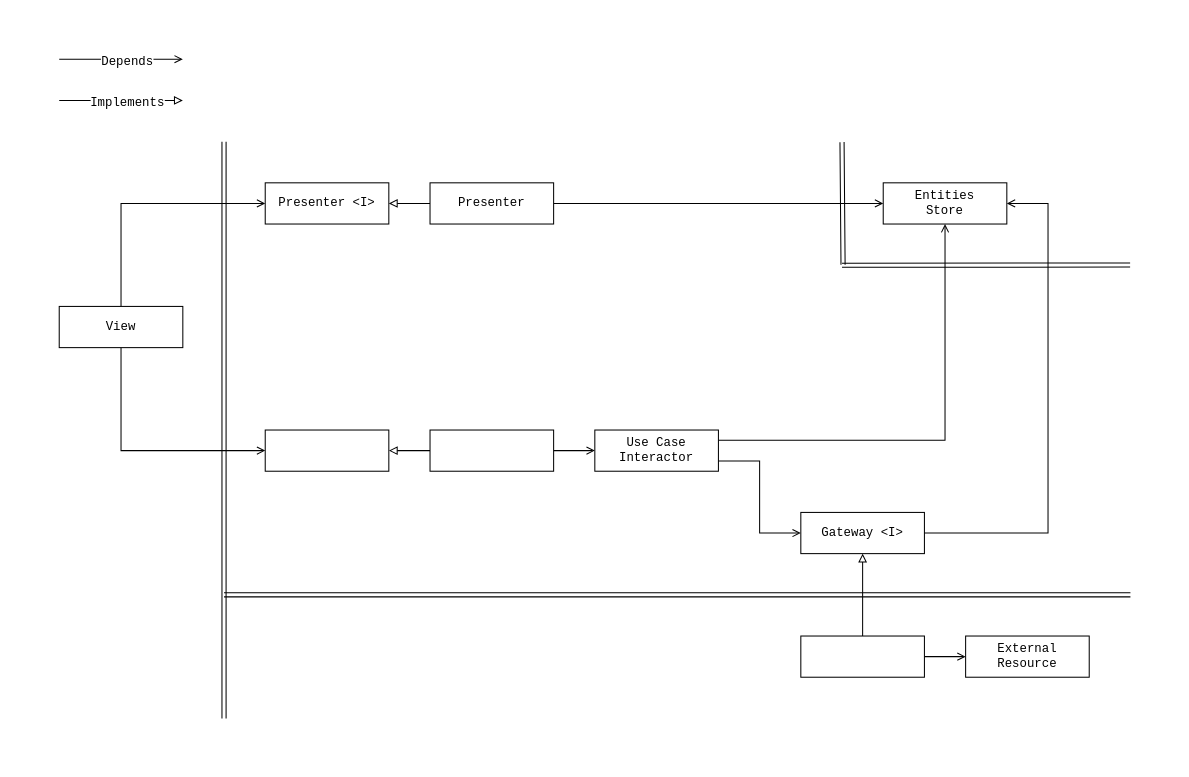
Image size: 1189x777. Some labels were removed from this diagram. Here are the shapes that lost their labels. From the top down, the centre of each, then its label:
At pixel 326 450: "Controller <I>".
At pixel 491 450: "Controller".
At pixel 862 656: "Gateway".
